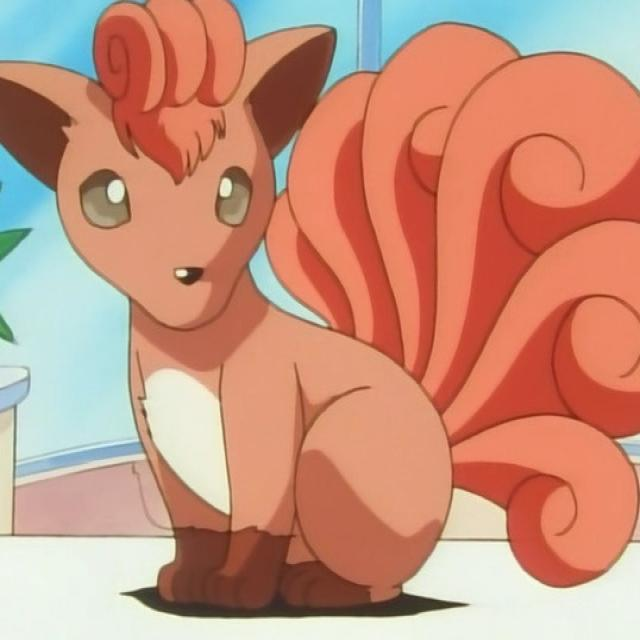Vulpix: (3, 12, 492, 614)
